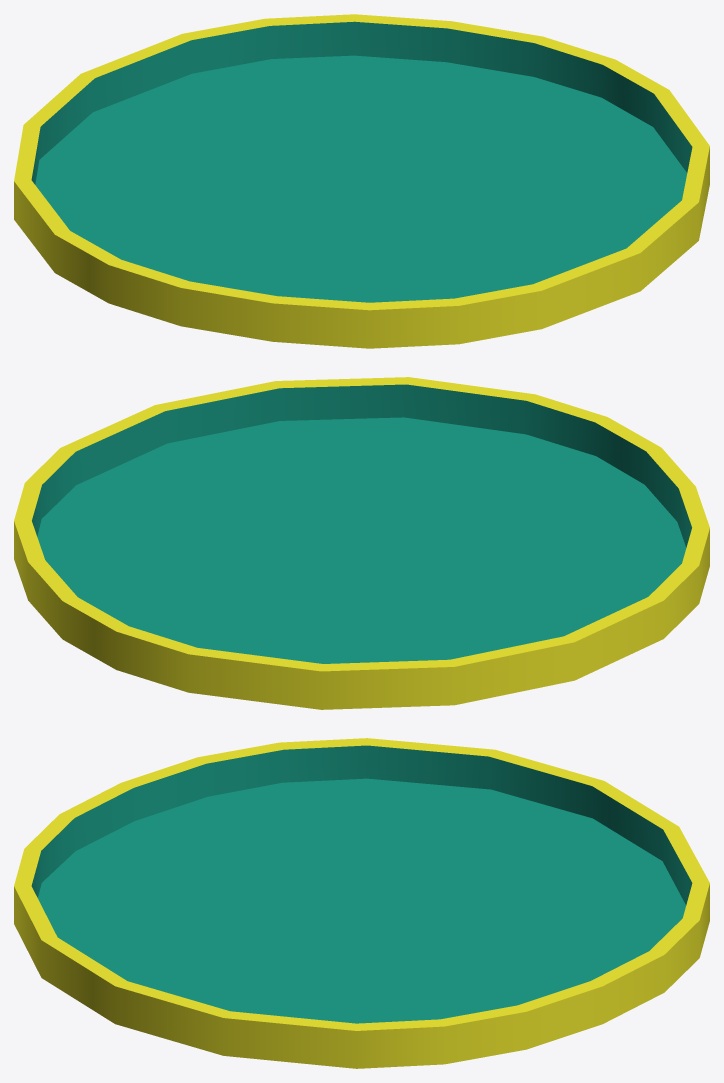
Rendered from SM_Dishes_7.fbx.
The picture shows the model from 3 angles, top to bottom: view 1: azimuth 30°, elevation 25°; view 2: azimuth 150°, elevation 25°; view 3: azimuth 270°, elevation 25°; orthographic projection.
Visible parts, largest first — view 1: SM_Dishes_7; view 2: SM_Dishes_7; view 3: SM_Dishes_7.
Boxes of the visible parts, left/top/right/bottom form: SM_Dishes_7: left=14, top=14, right=709, bottom=348; SM_Dishes_7: left=14, top=377, right=709, bottom=709; SM_Dishes_7: left=14, top=738, right=709, bottom=1068.
Bounding box in the file's own units: 38.45 × 38.61 × 2.32.
1 material, 1 textured.
